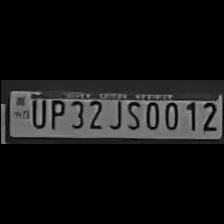0: (161, 98, 181, 132), (142, 97, 160, 130)
1: (180, 100, 198, 132)
2: (197, 100, 219, 132), (84, 97, 103, 130)
3: (66, 96, 84, 130)
J: (106, 96, 122, 130)
P: (46, 96, 64, 130)
S: (124, 97, 142, 131)
U: (27, 95, 46, 129)
